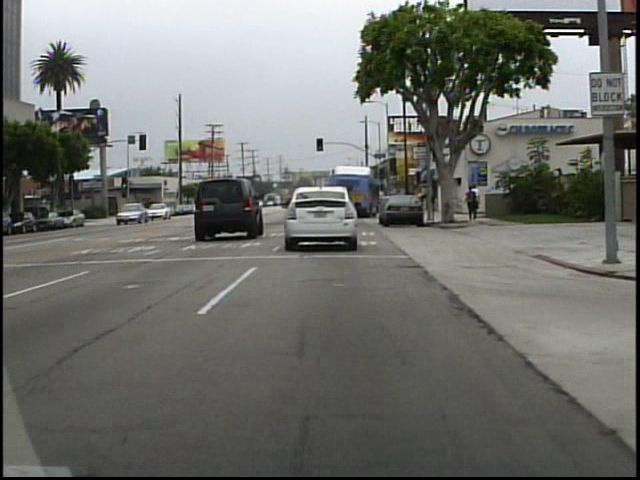person: (465, 184, 481, 225), (472, 182, 484, 221)
